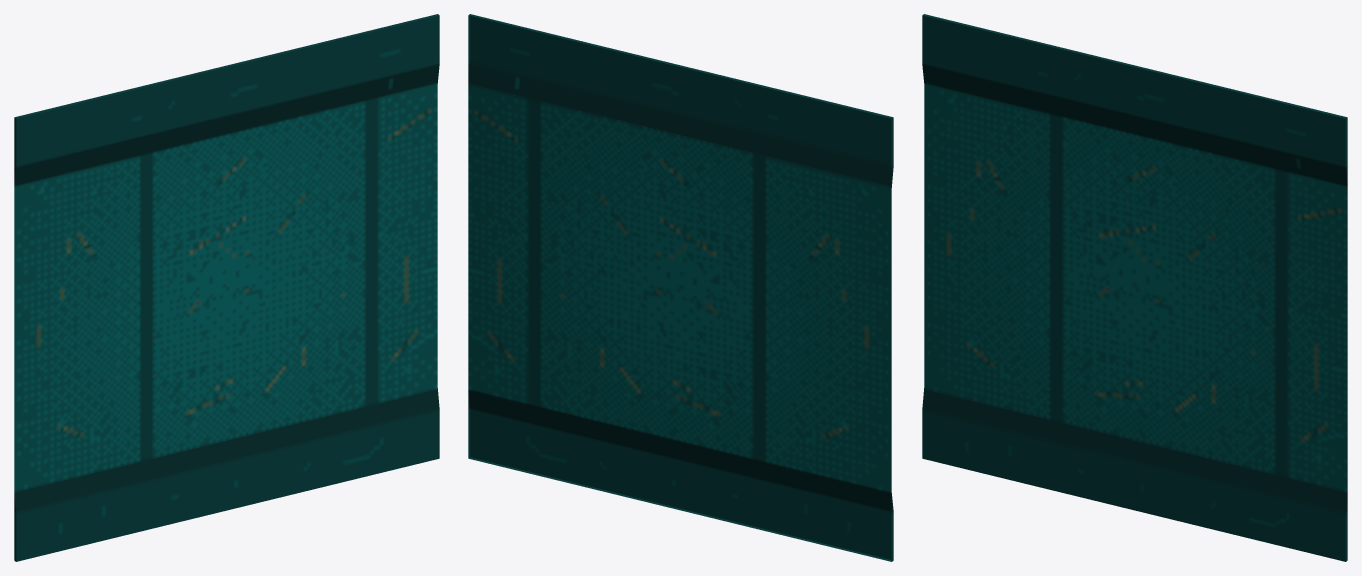
File: med1_9d.fbx
3 views of the same model, side by side, from view 1: azimuth 30°, elevation 25°; view 2: azimuth 150°, elevation 25°; view 3: azimuth 330°, elevation 25° (orthographic).
Visible parts, largest first — view 1: med1_9d_mesh; view 2: med1_9d_mesh; view 3: med1_9d_mesh.
Part boxes in pixels (x1,y1,x2,y2): med1_9d_mesh: (14,14,439,561); med1_9d_mesh: (468,14,893,561); med1_9d_mesh: (922,14,1347,561).
Size of the model in its own units: 256 by 256 by 2.
